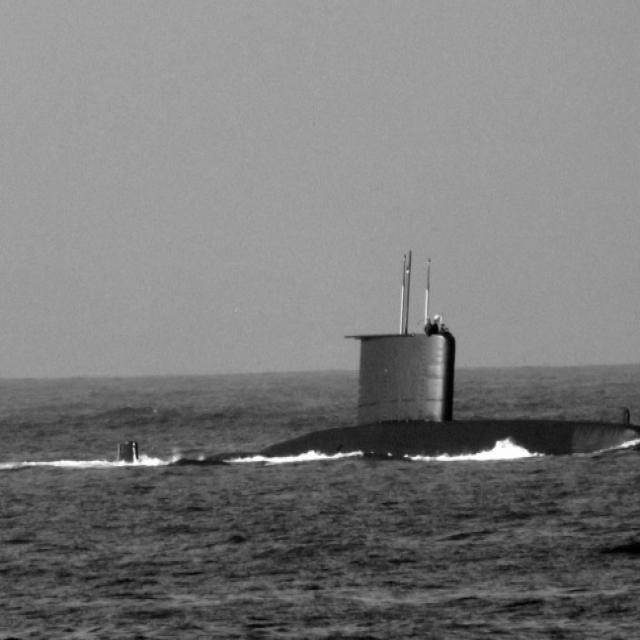submarine: (118, 238, 640, 460)
